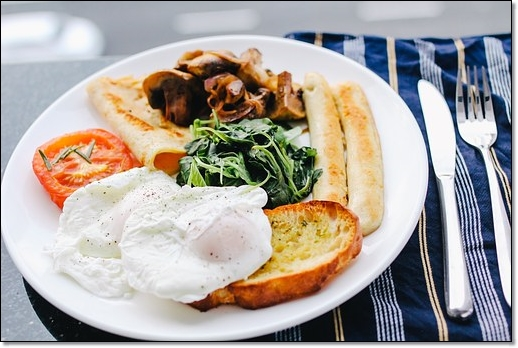chopped lettuce: (196, 121, 299, 198)
fried egg: (128, 194, 264, 287), (70, 186, 169, 298)
slice of bread: (253, 201, 352, 289)
